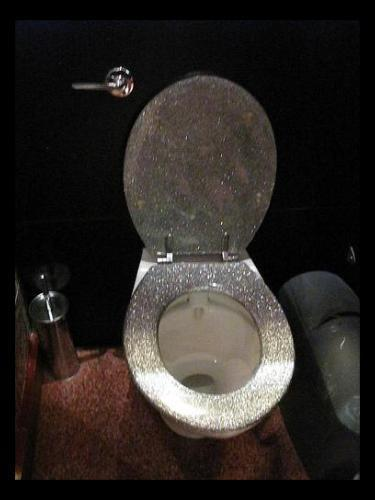Sanitario: (116, 79, 295, 445)
